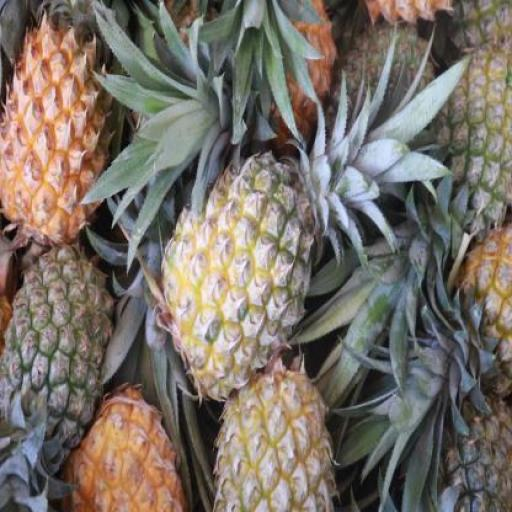------------------------------: (161, 145, 313, 393), (213, 360, 335, 512), (422, 41, 511, 236)
Pineapple - v8 v1: (0, 8, 112, 236), (65, 380, 189, 511)
